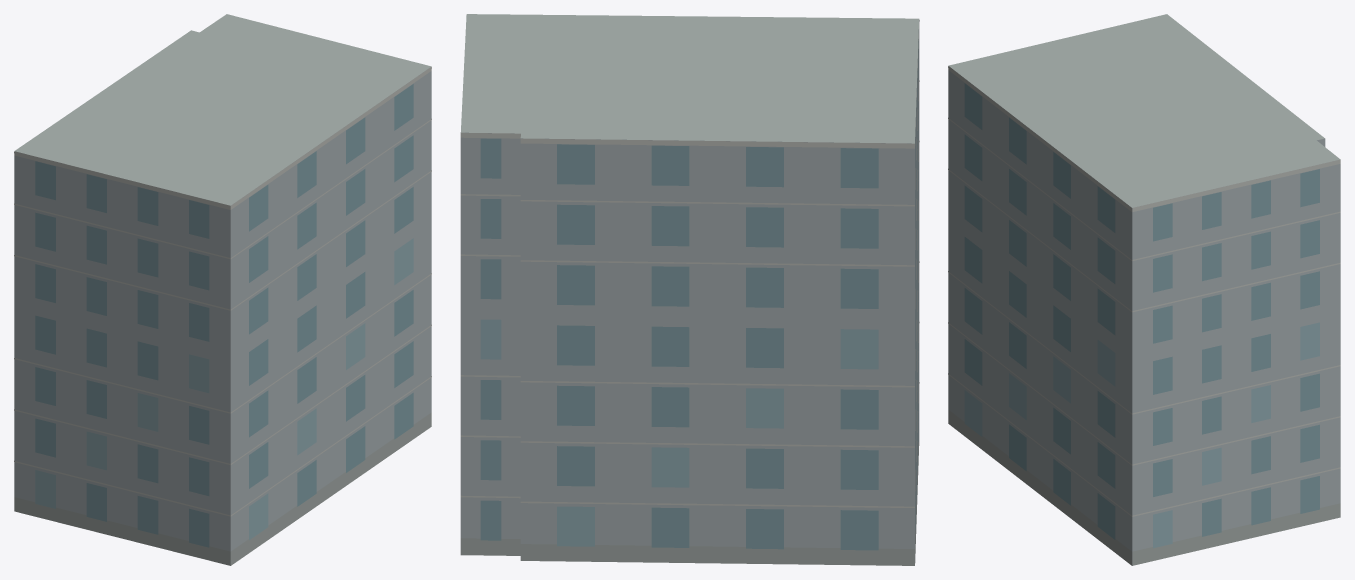
Rendered from survey-upis-32789618.glb.
The picture shows the model from 3 angles, left to right: view 1: azimuth 30°, elevation 25°; view 2: azimuth 150°, elevation 25°; view 3: azimuth 270°, elevation 25°; orthographic projection. The views are drawn at different scales.
Visible parts, largest first — view 1: survey-upis-32789618.tmp; view 2: survey-upis-32789618.tmp; view 3: survey-upis-32789618.tmp.
Boxes of the visible parts, x1=… form: survey-upis-32789618.tmp: x1=14, y1=14, x2=431, y2=565; survey-upis-32789618.tmp: x1=460, y1=14, x2=919, y2=565; survey-upis-32789618.tmp: x1=948, y1=14, x2=1340, y2=565.
Bounding box in the file's own units: 23.49 × 20.2 × 20.09.
